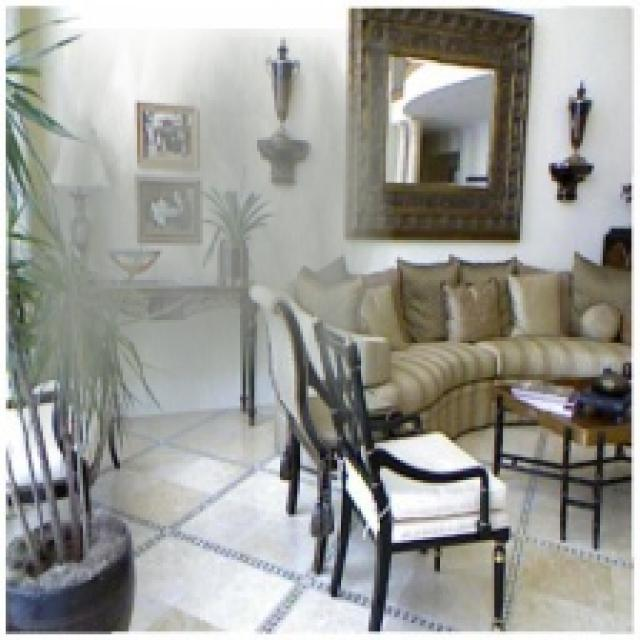smoke: (20, 29, 394, 454)
